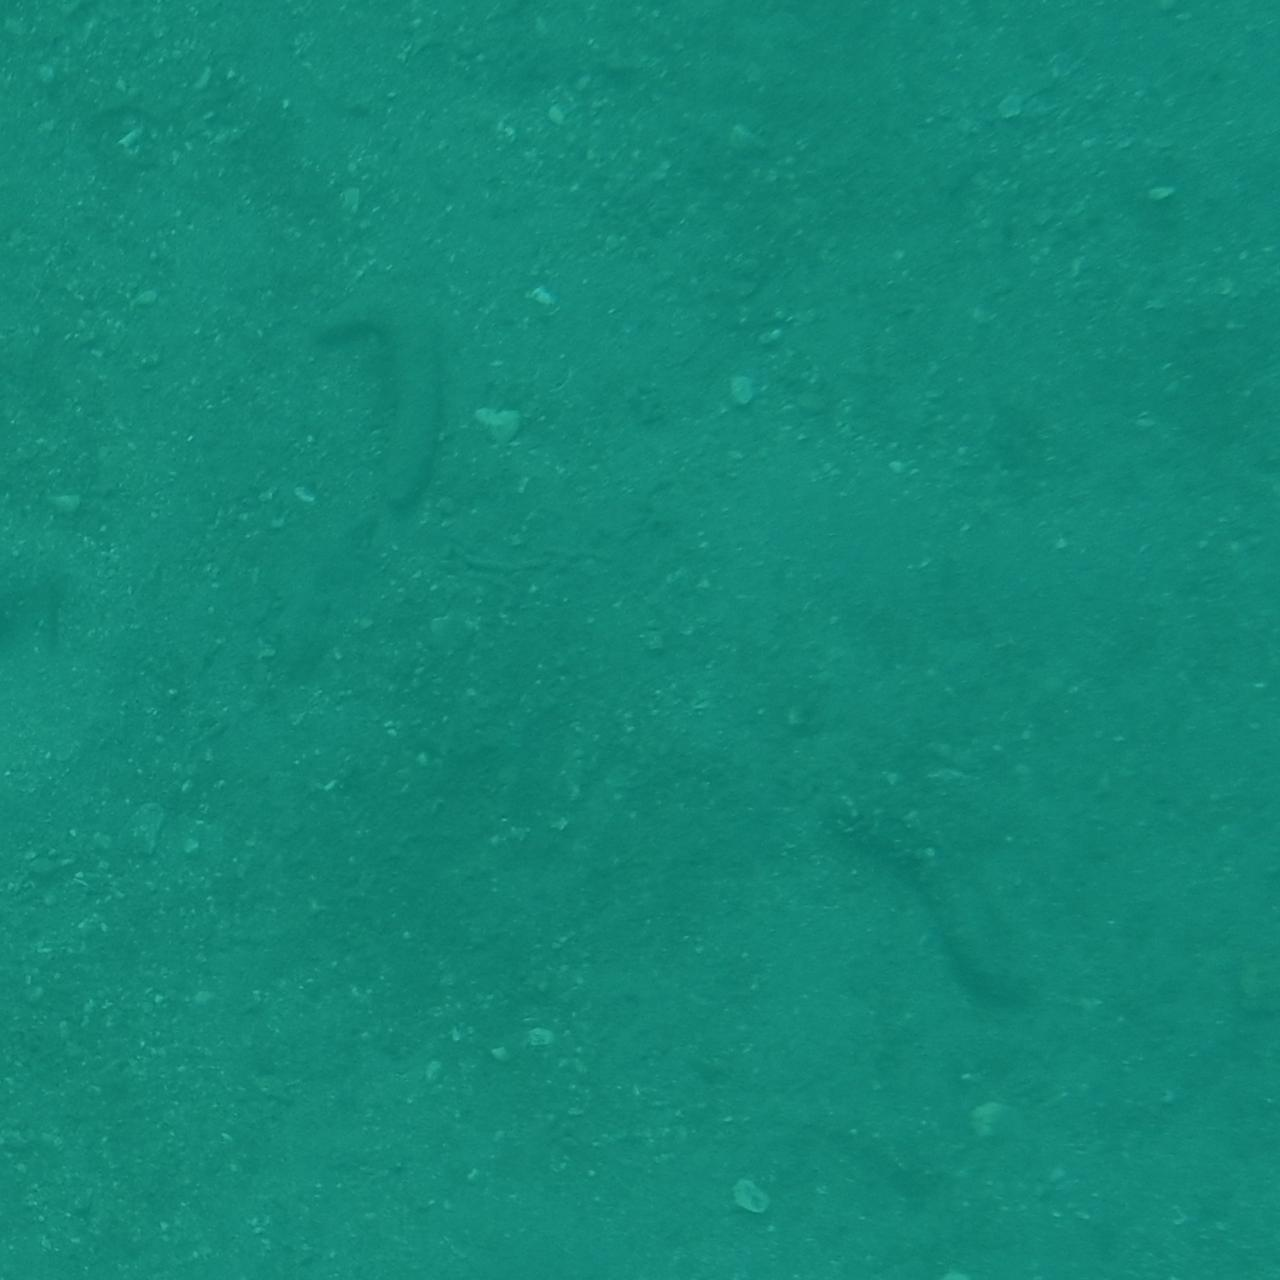Holothuria tubulosa: (740, 756, 1056, 1007), (316, 257, 449, 543)
